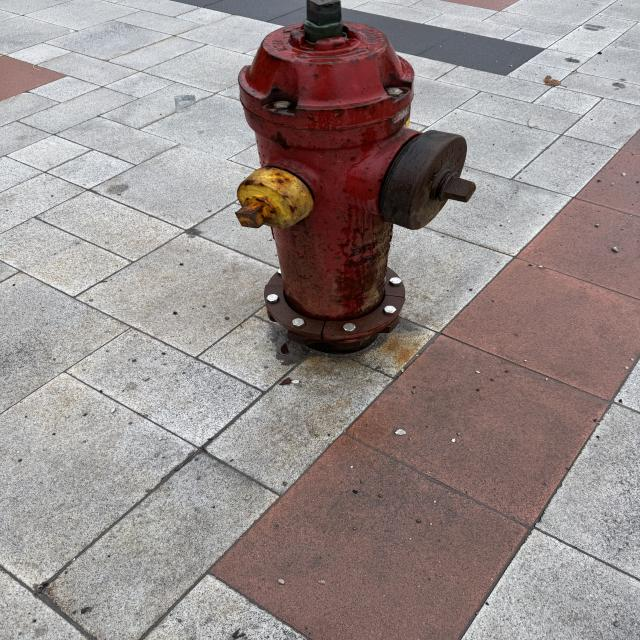Fire hydrant: (234, 0, 477, 353)
